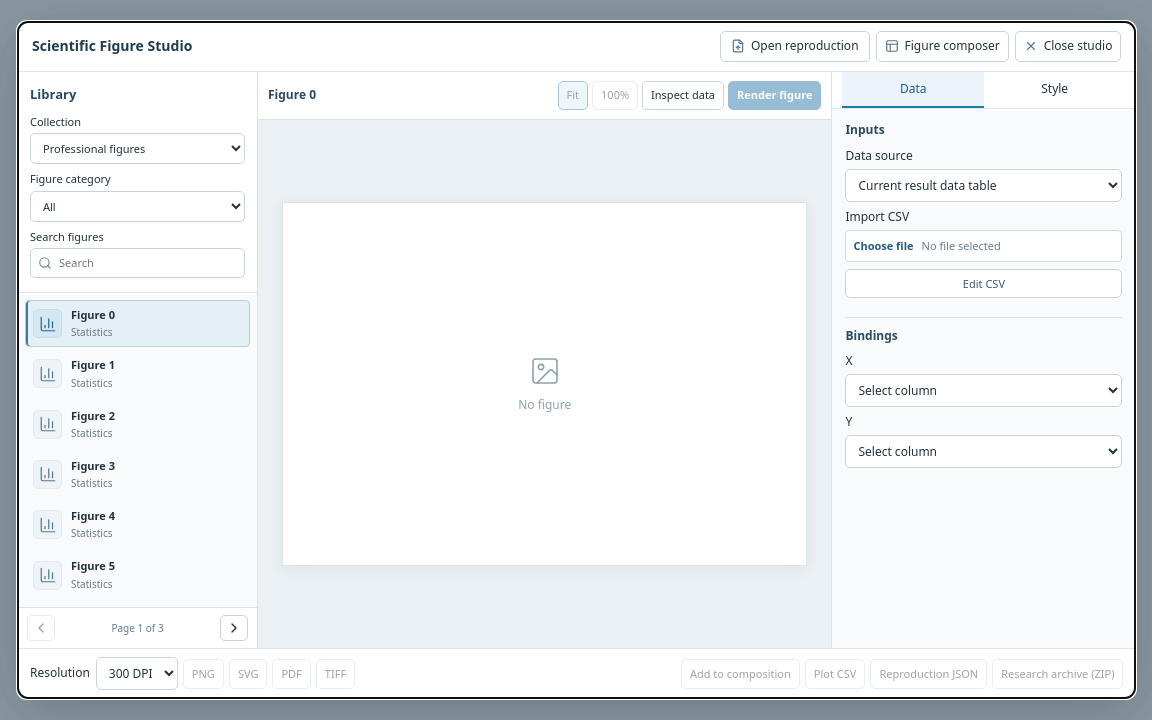
pages the figure library and keeps the selected item in its original position
Expected: the button "Figure 0 Statistics" is shown, [25, 300, 250, 347]
Click the button named "Next figure page" at (234, 628), box [220, 615, 248, 641]
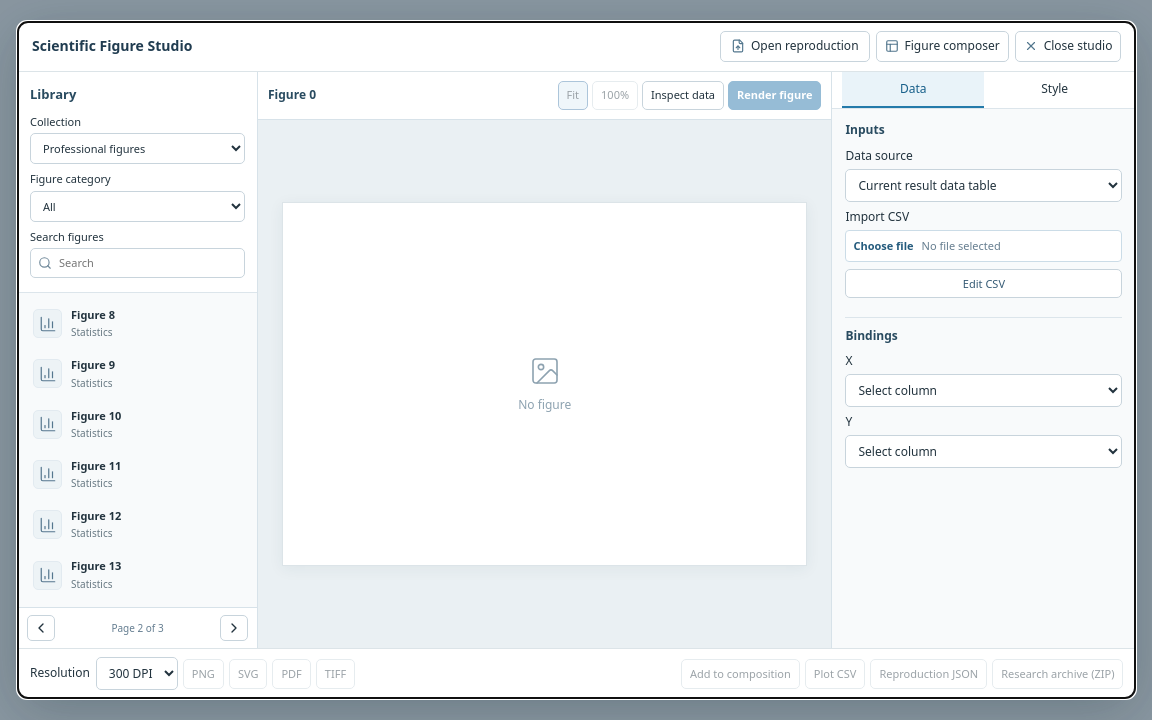
Click the button "Figure 9 Statistics" at (138, 374), box [25, 350, 250, 398]
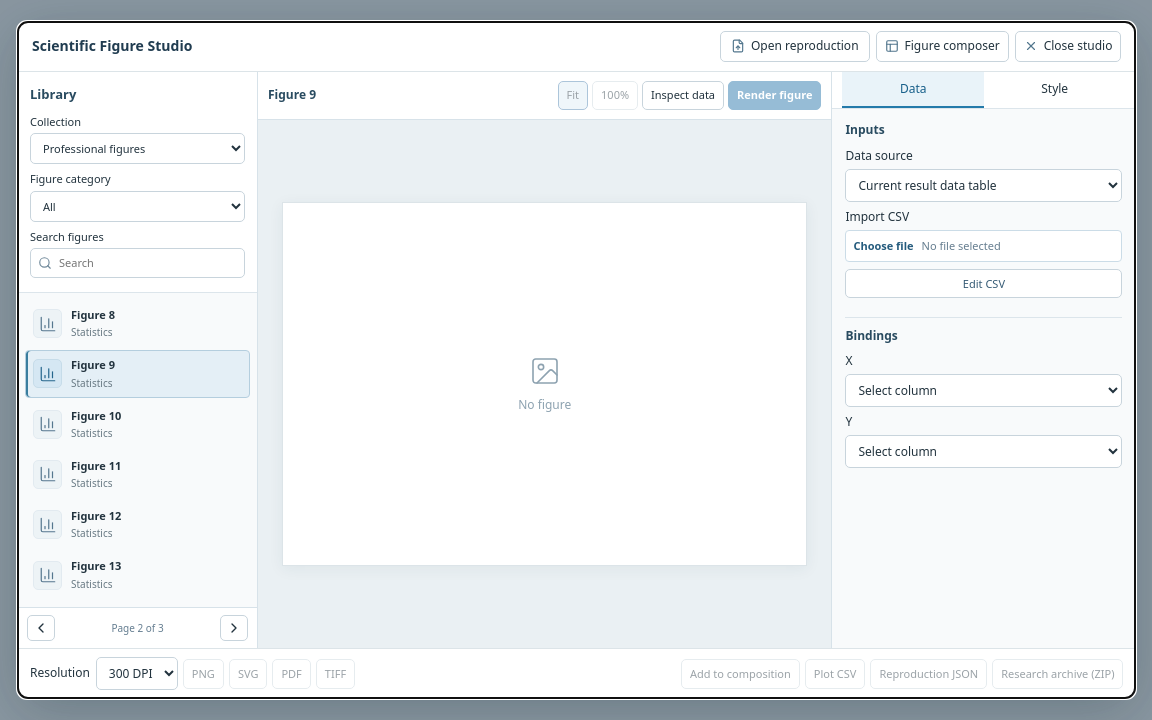
Result: the text "Page 2 of 3" is shown at [111, 621, 164, 635]
Click the button named "Next figure page" at (234, 628), box [220, 615, 248, 641]
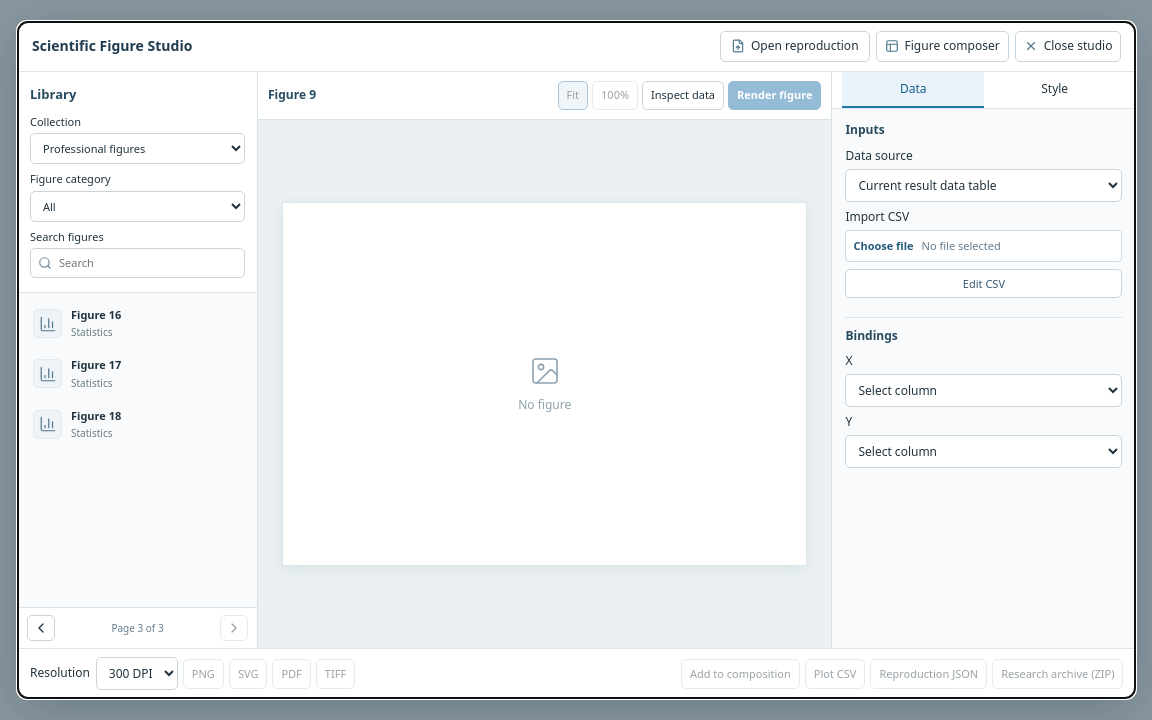
Result: the number of buttons "Figure 16 Statistics" is 3 at [25, 300, 250, 347]; [25, 350, 250, 398]; [25, 400, 250, 448]
Type "Figure 18" into the field labelled "Search figures" at (138, 263), box [30, 248, 245, 278]
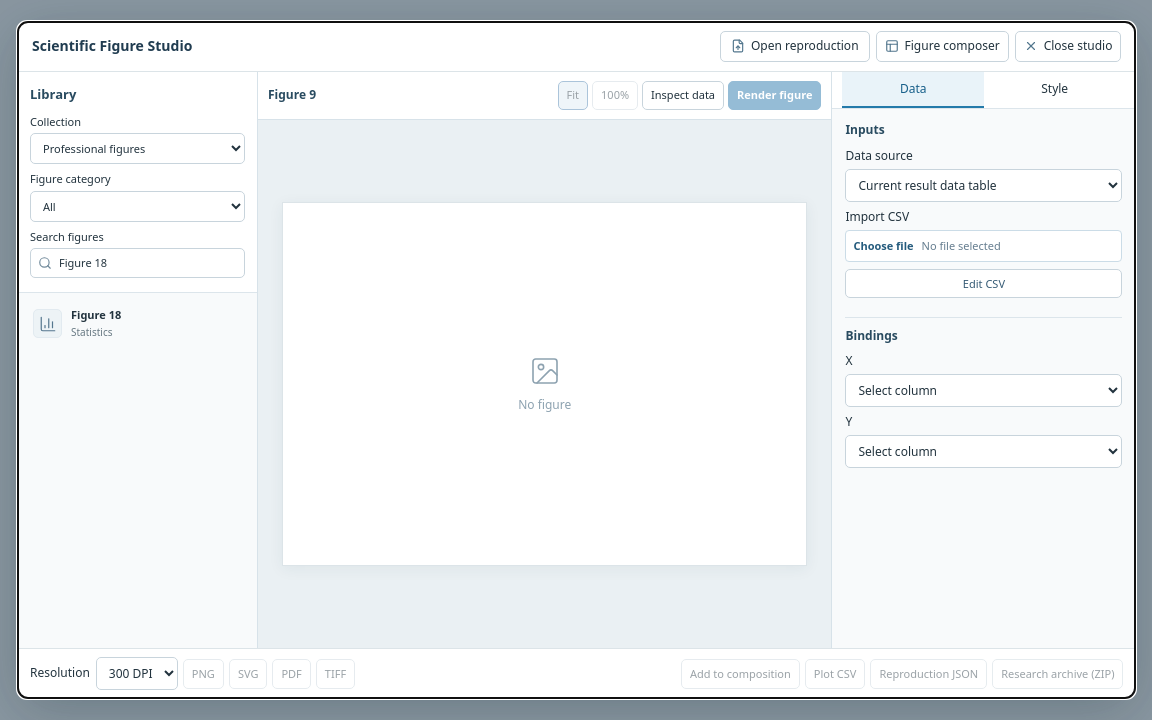
Result: the number of buttons "Figure 18 Statistics" is 1 at [25, 300, 250, 347]
Click the button "Edit CSV" at (984, 284), box [845, 269, 1122, 298]
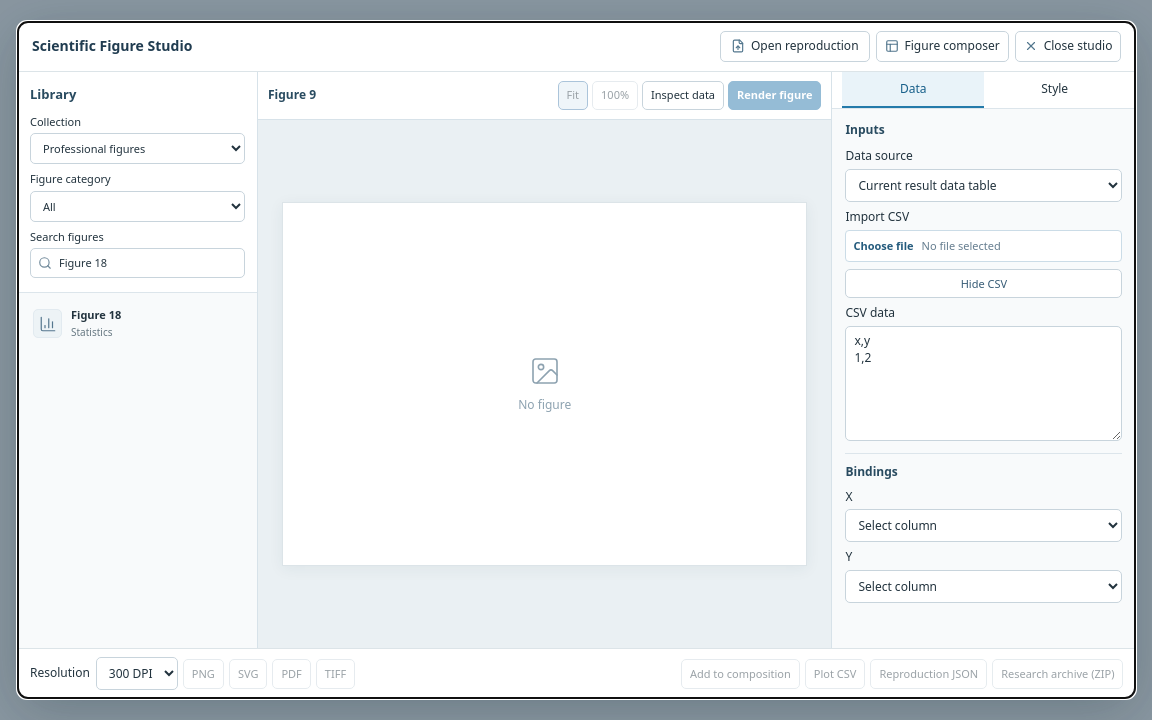
Result: the text box named "Figure CSV data" is shown at [845, 326, 1122, 441]
